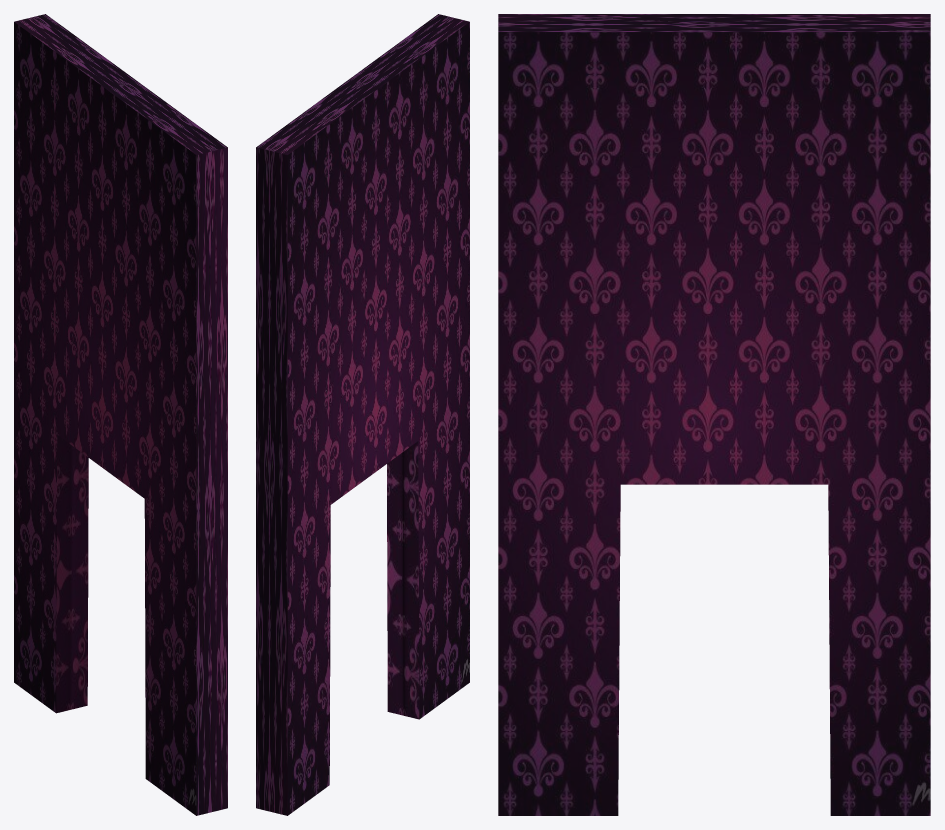
The model's file is parede-porta.fbx.
3 renders of one model, left to right at view 1: azimuth 30°, elevation 25°; view 2: azimuth 150°, elevation 25°; view 3: azimuth 270°, elevation 25°, orthographic. The views are drawn at different scales.
Visible parts, largest first — view 1: Cube.001; view 2: Cube.001; view 3: Cube.001.
Boxes of the visible parts, <box> form: Cube.001: <box>14,14,227,815</box>; Cube.001: <box>256,14,469,815</box>; Cube.001: <box>498,14,930,815</box>.
Size of the model in its own units: 43.99 by 880 by 440.
1 material, 1 textured.
